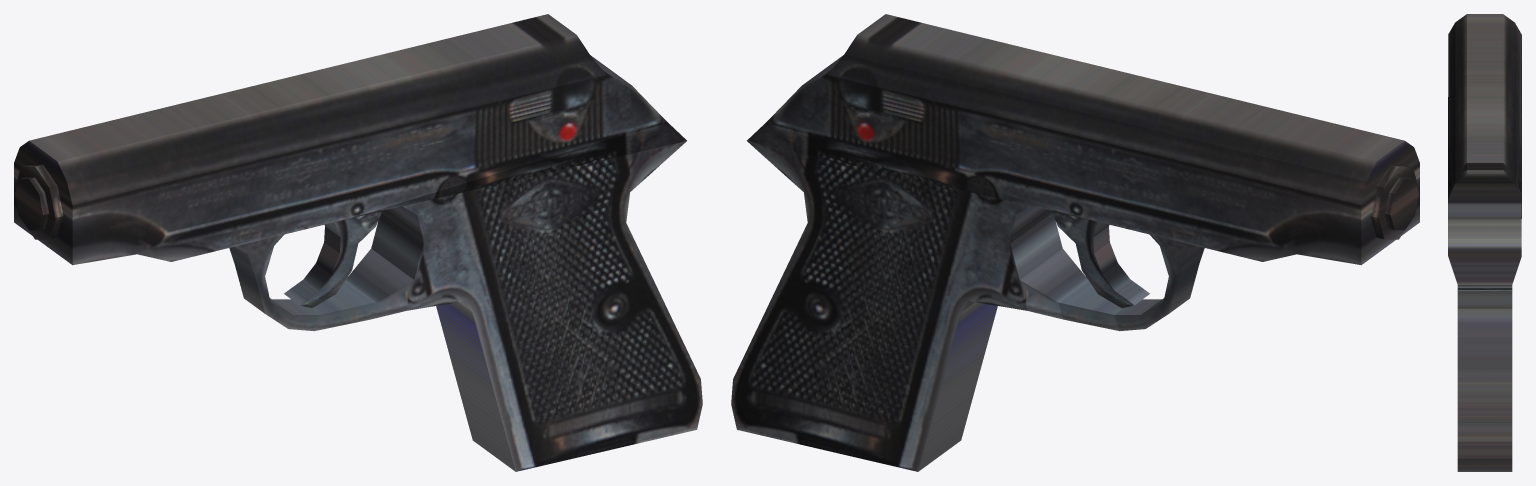
File: pistol.obj
3 views of the same model, side by side, from view 1: azimuth 30°, elevation 25°; view 2: azimuth 150°, elevation 25°; view 3: azimuth 270°, elevation 25° (orthographic). The views are drawn at different scales.
Parts seen in each view (by area): view 1: mesh01, mesh02, cylinder01, cylinder02; view 2: mesh01, mesh02, cylinder01, cylinder02; view 3: mesh01.
Boxes of the visible parts, x1,y1,x2,y2 form: mesh01: (14, 14, 702, 471); mesh02: (284, 211, 381, 308); cylinder01: (15, 164, 63, 239); cylinder02: (15, 177, 49, 230); mesh01: (731, 14, 1419, 471); mesh02: (1052, 211, 1149, 308); cylinder01: (1370, 164, 1418, 239); cylinder02: (1384, 177, 1418, 230); mesh01: (1448, 14, 1521, 471).
Size of the model in its own units: 93.53 by 57.16 by 14.5.
Materials: 1 (1 with a texture image).
